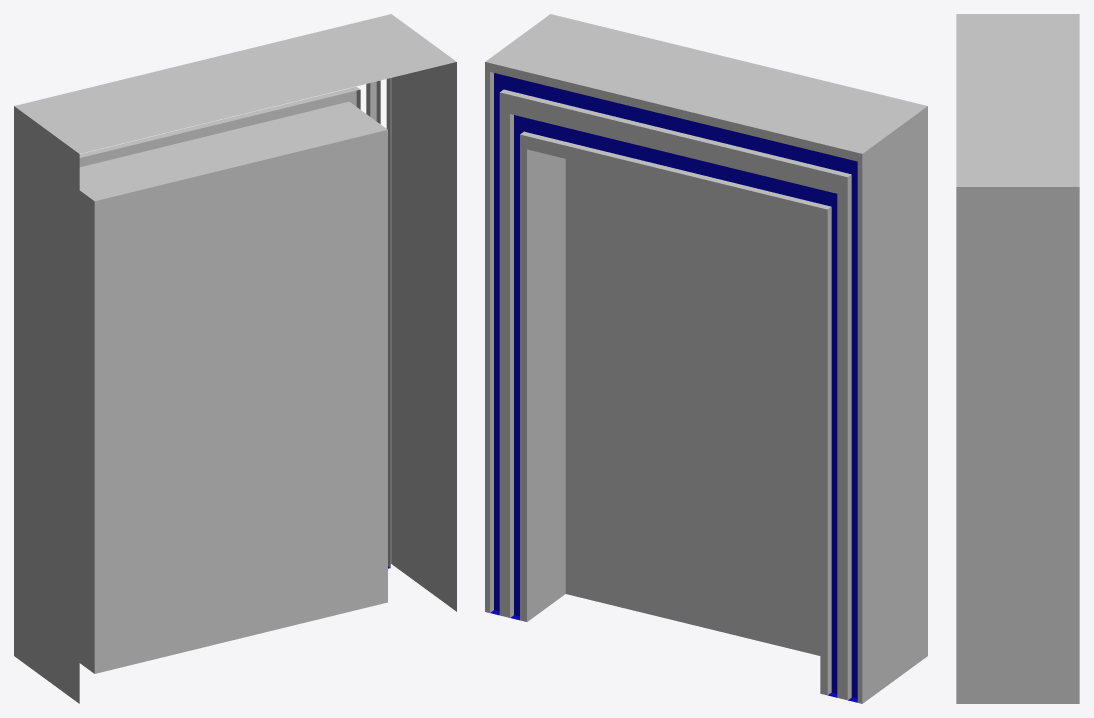
Rendered from Door.fbx.
The picture shows the model from 3 angles, left to right: view 1: azimuth 30°, elevation 25°; view 2: azimuth 150°, elevation 25°; view 3: azimuth 270°, elevation 25°; orthographic projection. The views are drawn at different scales.
Visible parts, largest first — view 1: Door; view 2: Door; view 3: Door.
Part boxes in pixels (box(x1,y1,x2,y2)): Door: box(14, 14, 456, 703); Door: box(485, 14, 927, 703); Door: box(956, 14, 1079, 703).
Size of the model in its own units: 1.5 by 2.09 by 0.4516.
